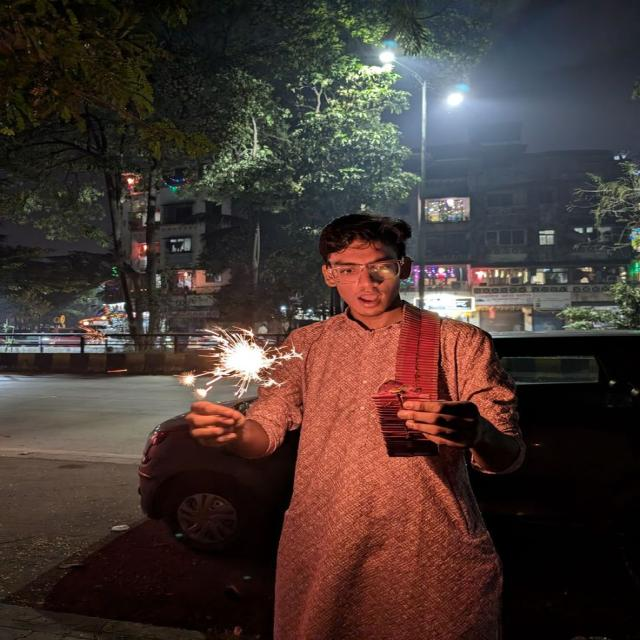fire: (215, 337, 274, 382)
